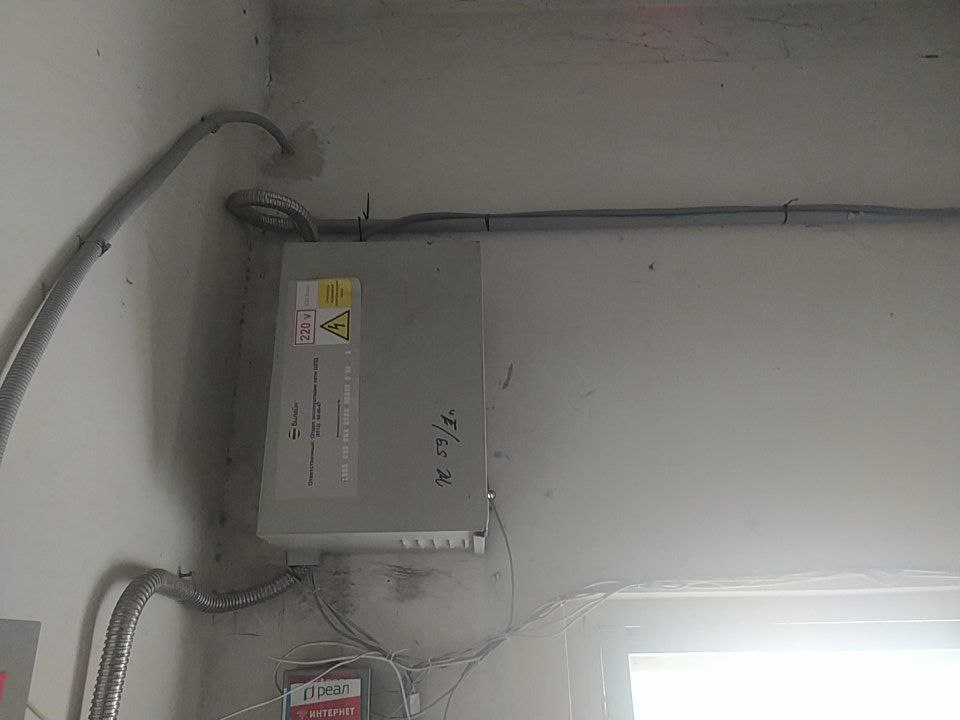sv-5: (249, 239, 489, 556)
